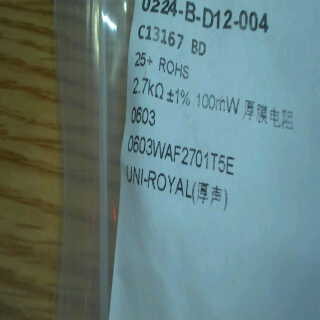2.7kR: (129, 77, 169, 99)
